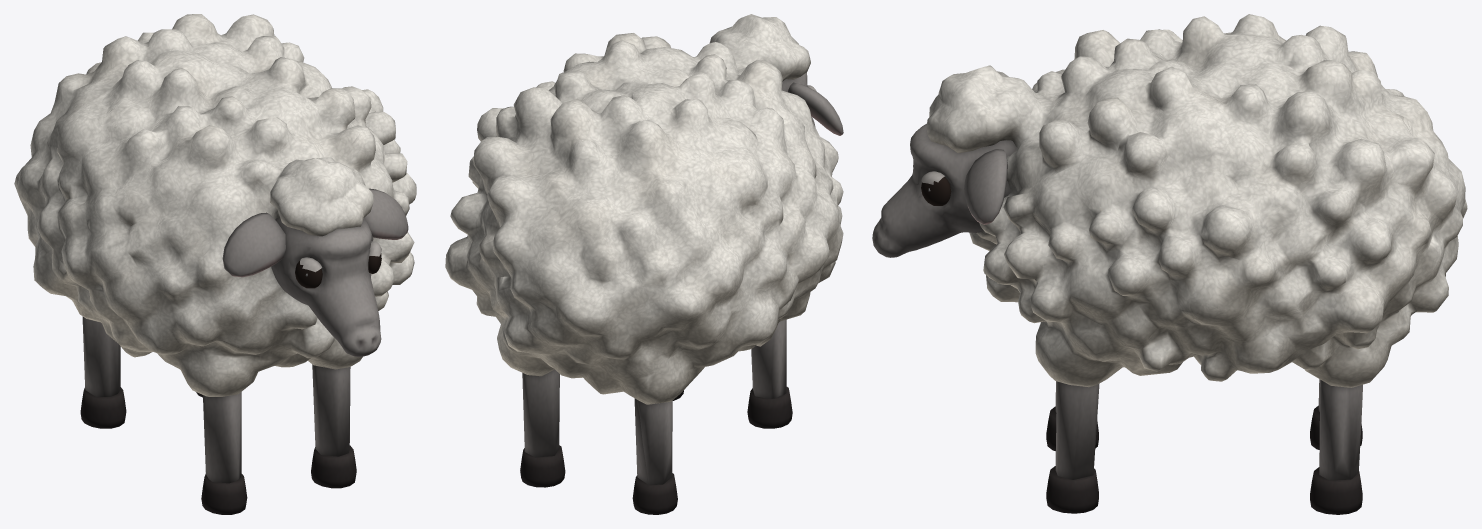
The model's file is sheep.fbx.
The picture shows the model from 3 angles, left to right: view 1: azimuth 30°, elevation 25°; view 2: azimuth 150°, elevation 25°; view 3: azimuth 270°, elevation 25°; orthographic projection. The views are drawn at different scales.
Visible parts, largest first — view 1: Sheep_Body, Sheep_Eyes; view 2: Sheep_Body; view 3: Sheep_Body.
Boxes of the visible parts, box(x1,y1,x2,y2) form: Sheep_Body: box(14, 14, 416, 514); Sheep_Eyes: box(295, 253, 381, 288); Sheep_Body: box(445, 14, 843, 514); Sheep_Body: box(872, 14, 1467, 514).
Size of the model in its own units: 2.54 by 2.86 by 3.55.
2 materials, 1 textured.
